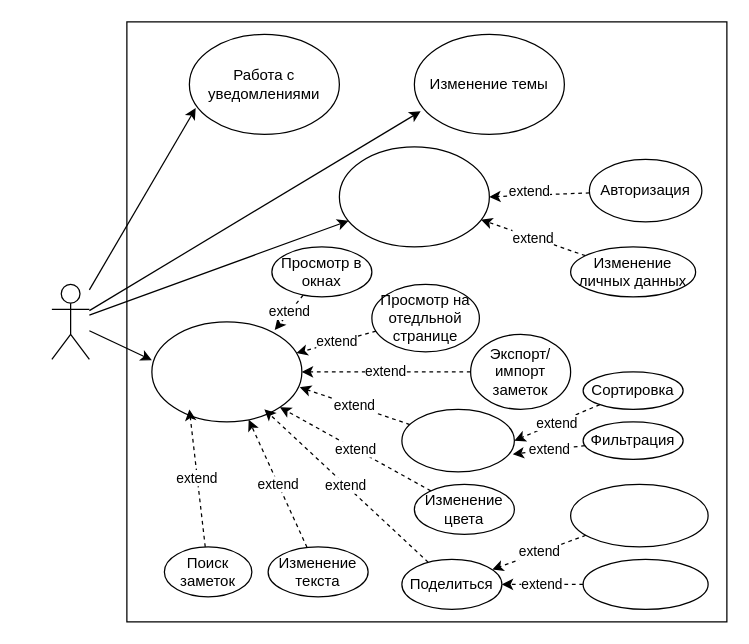
The diagram is 749 pixels wide and 644 high, and some of its shapes have lost their labels. The centre of each missing label's shape, as x and y in pixels:
Поделиться по ссылке: point (645, 583)
Поделиться с пользователем: point (638, 515)
Пользователь: point (70, 321)
Работа в таблице: point (457, 440)
Работа с аккаунтом: point (413, 196)
Работа с заметками: point (226, 371)
